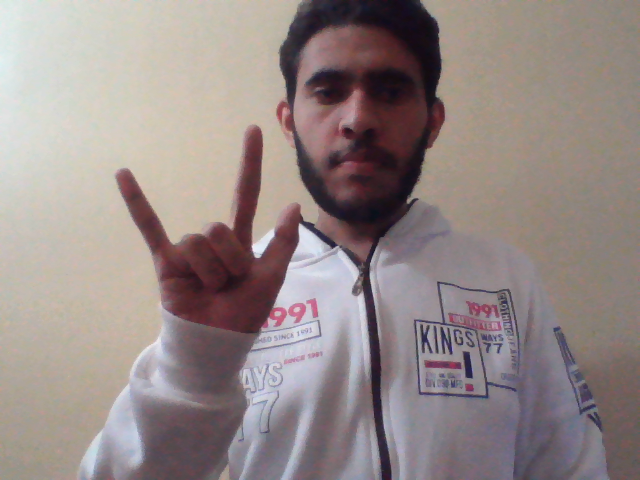iloveyou: (111, 119, 302, 346)
